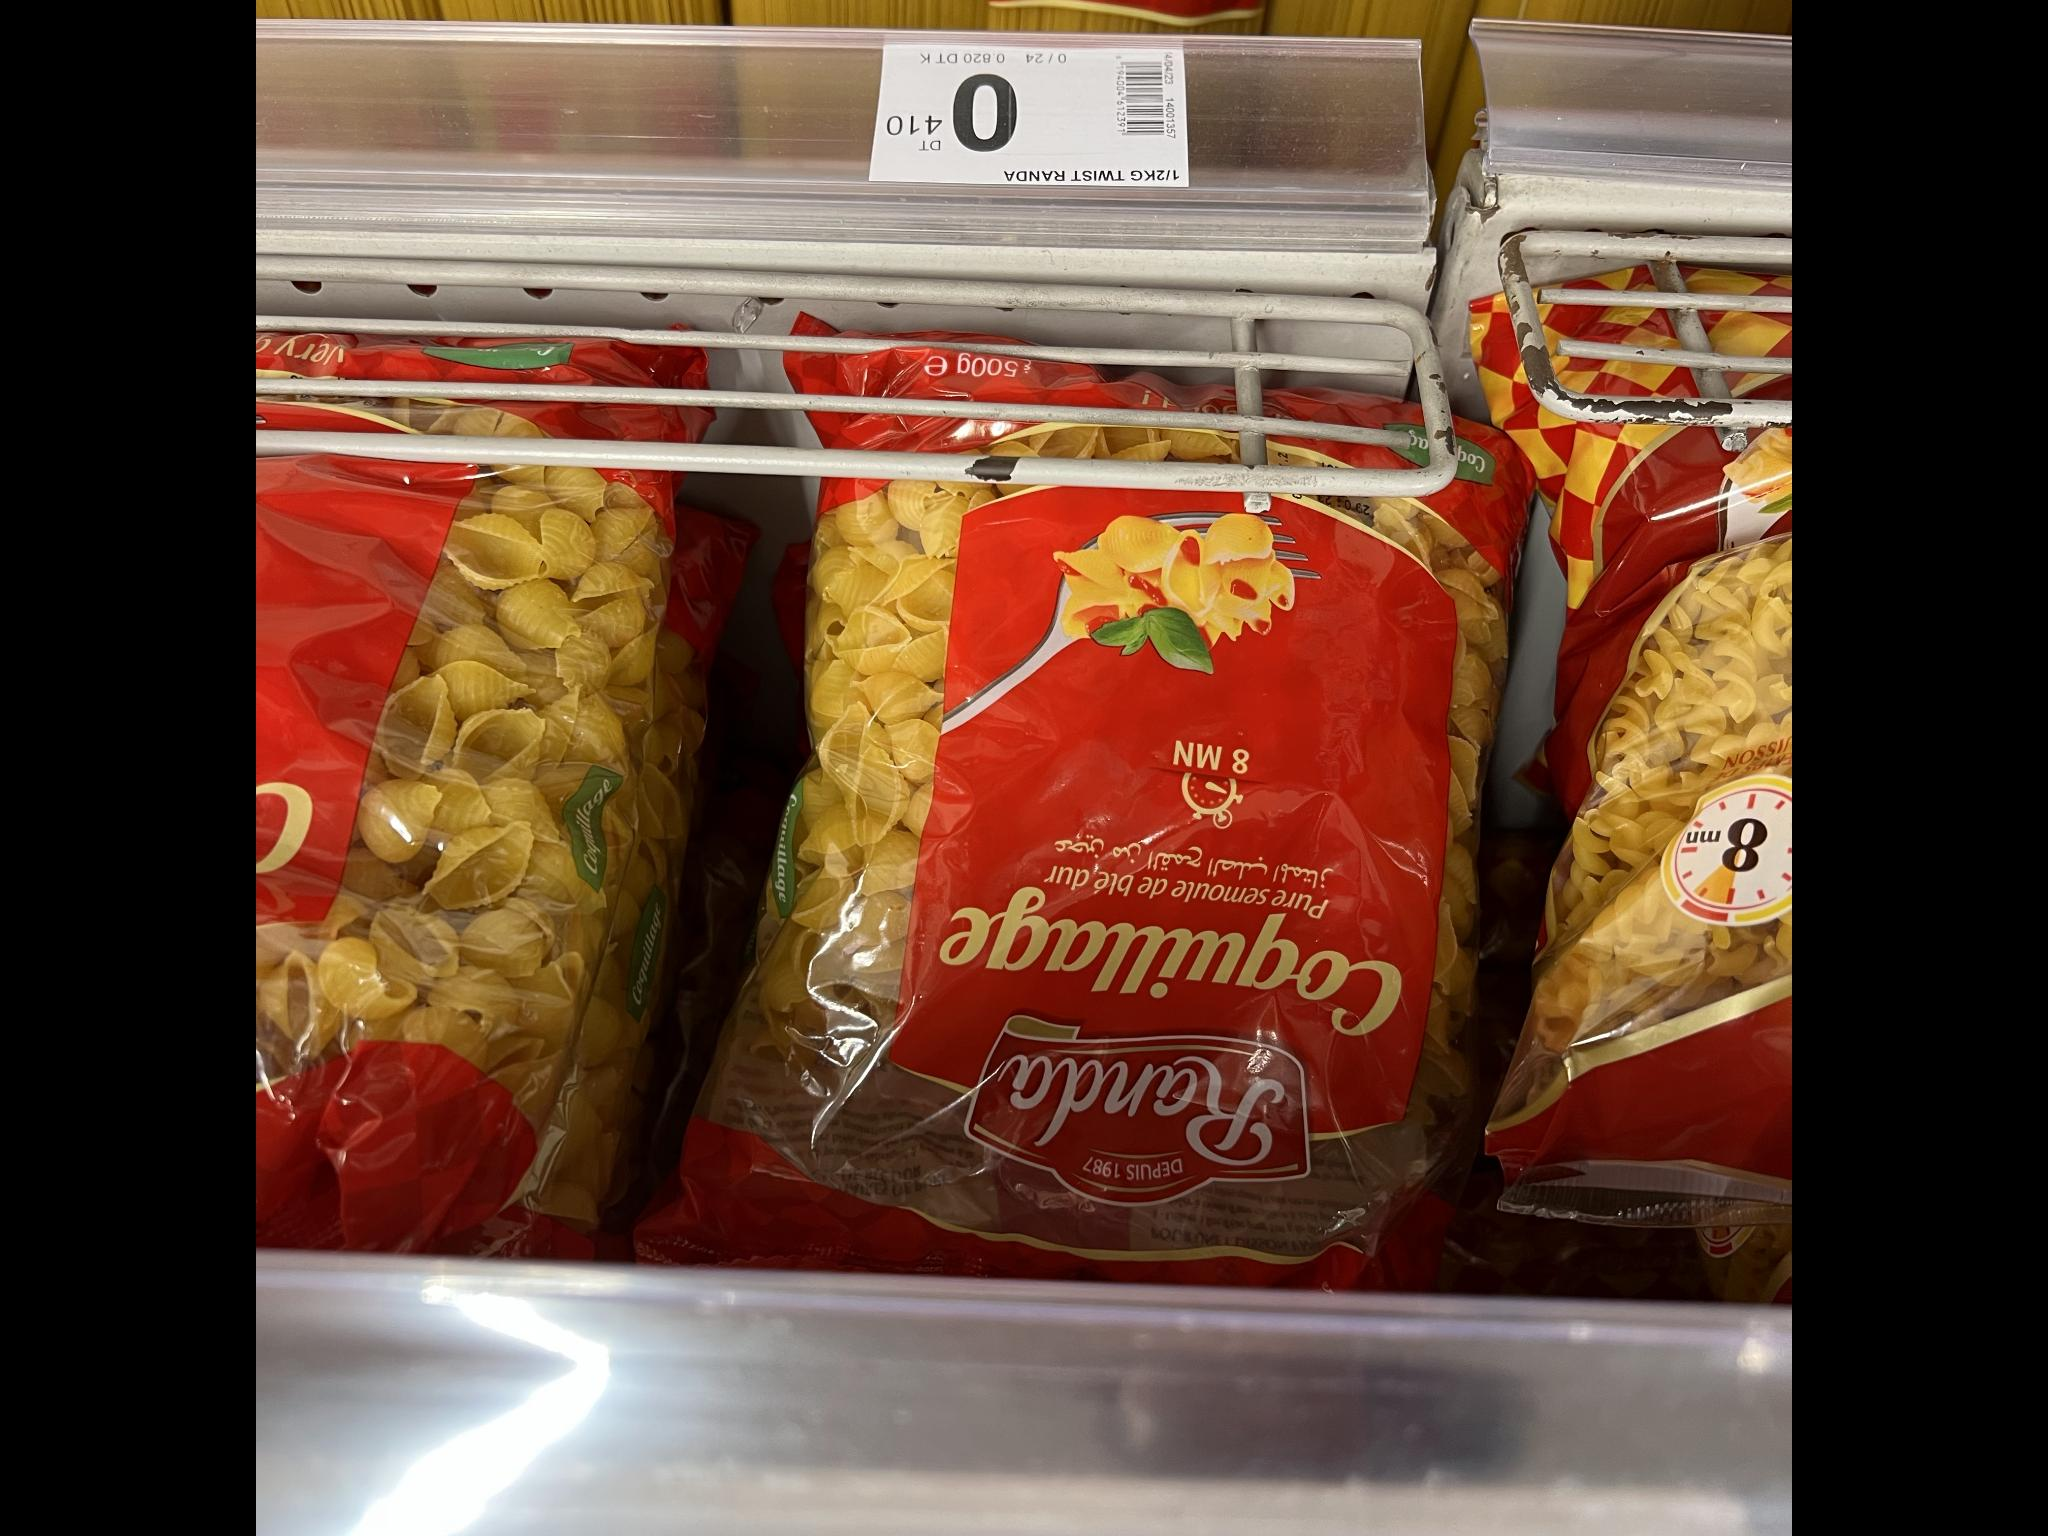Escargot: (655, 300, 1526, 1373), (256, 282, 713, 1312)
